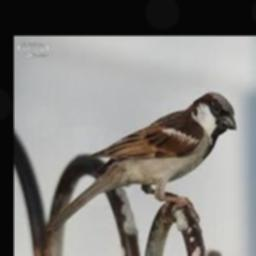Sparrow: (46, 93, 236, 235)
